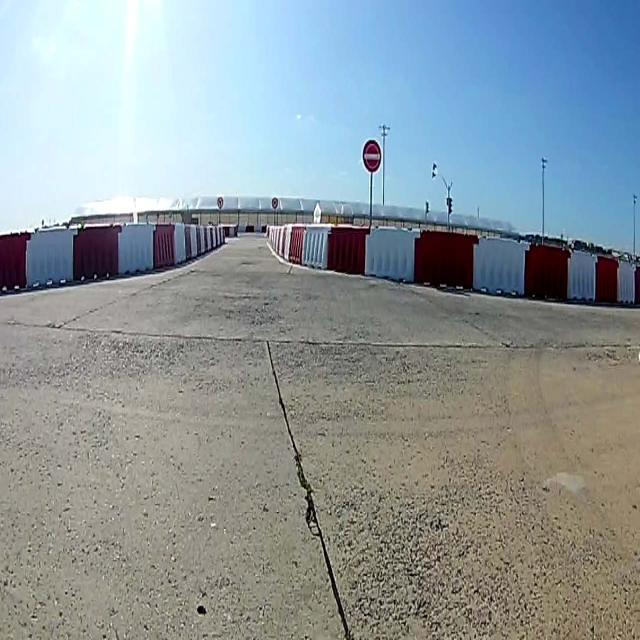girisyok: (365, 143, 381, 171)
